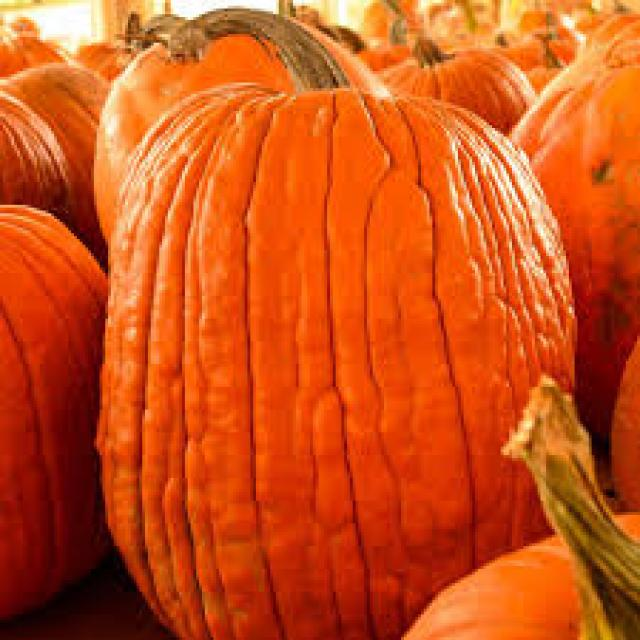organic waste: (91, 3, 575, 637), (88, 12, 387, 250), (396, 373, 638, 637), (504, 11, 637, 458), (0, 199, 111, 617), (0, 59, 111, 264), (378, 31, 532, 134), (0, 555, 185, 637), (0, 77, 65, 222), (352, 0, 446, 68), (606, 319, 637, 512), (68, 8, 142, 74), (0, 11, 68, 73), (273, 0, 353, 43), (421, 0, 498, 43), (512, 32, 572, 82), (358, 0, 421, 37), (578, 0, 637, 26), (517, 0, 571, 28)
